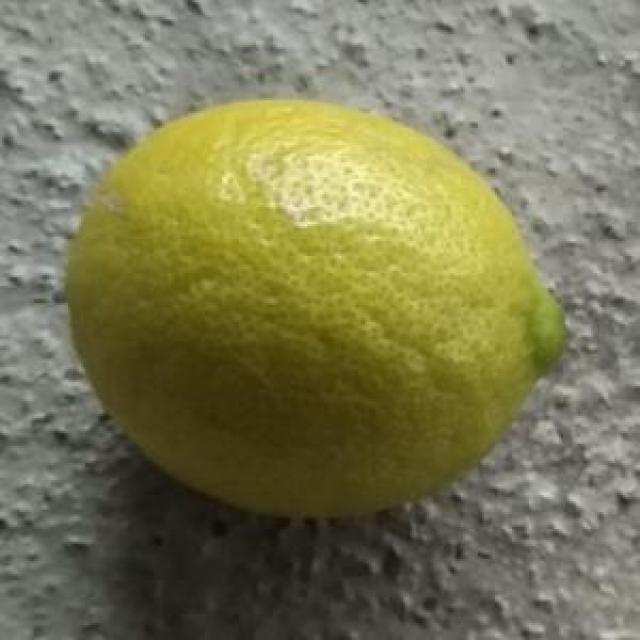lemon: (60, 100, 565, 518)
